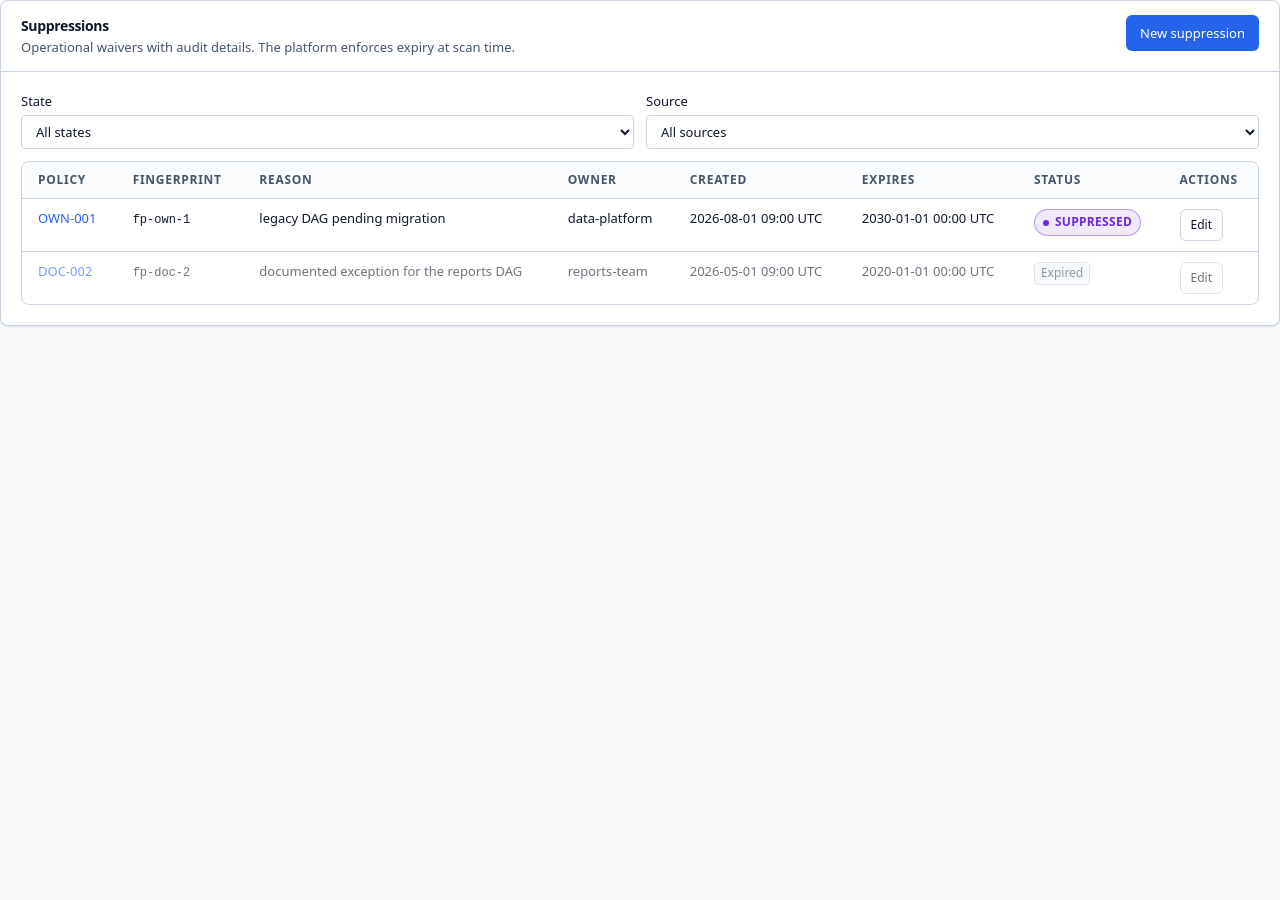
Test: SuppressionsPage › edits reason, owner, and expiry through the update route
Click the button with aria-label "Edit suppression sup-1": (1201, 226) 1180,210 -> 1223,242
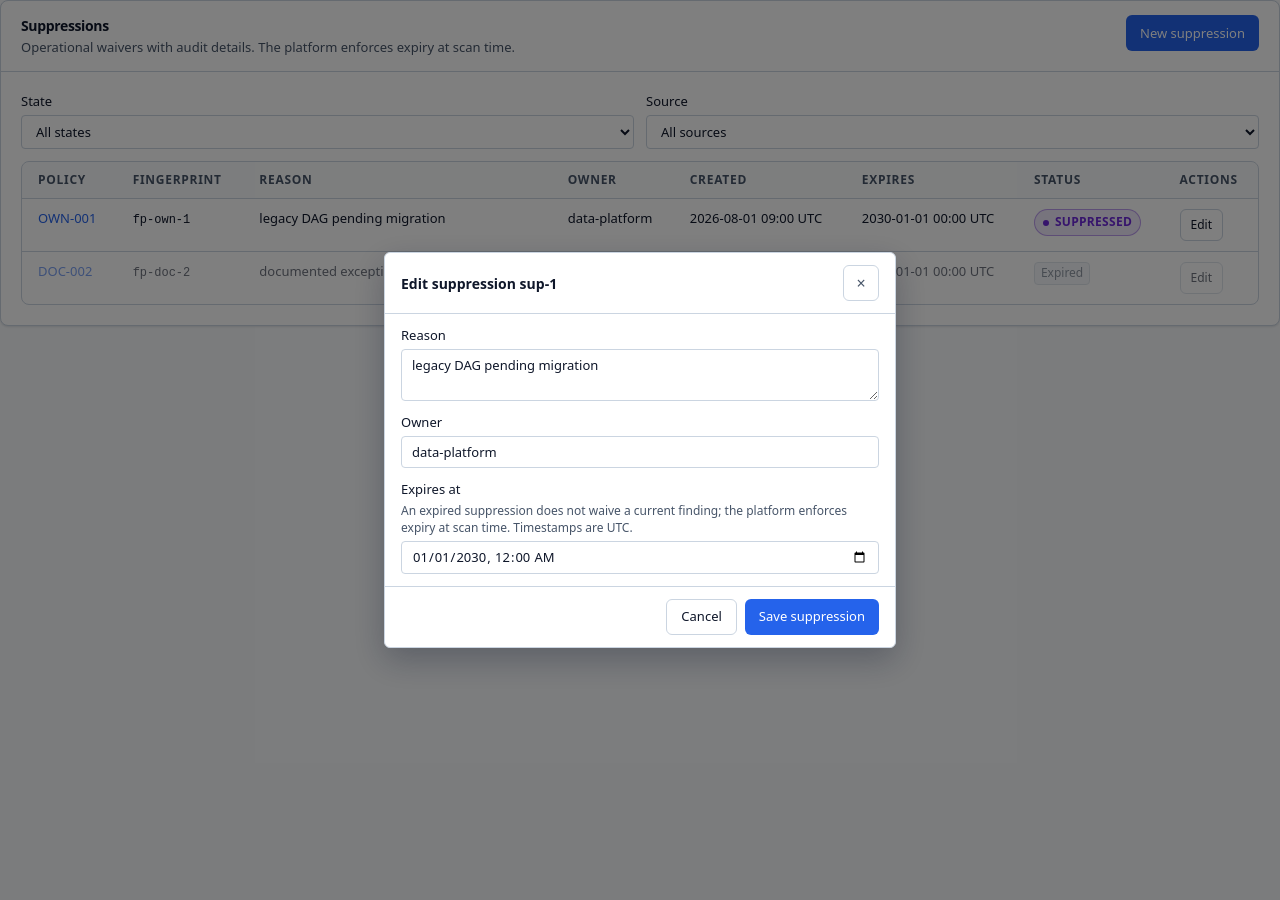
expect the text box labelled "Reason" holds "legacy DAG pending migration": met
expect the field labelled "Owner" holds "data-platform": met, box 401,436 -> 879,468
expect the field labelled "Expires at" holds "2030-01-01T00:00": met, box 401,541 -> 879,574
Replace the text in the text box labelled "Reason" with "updated reason": (640, 375) 401,349 -> 879,401
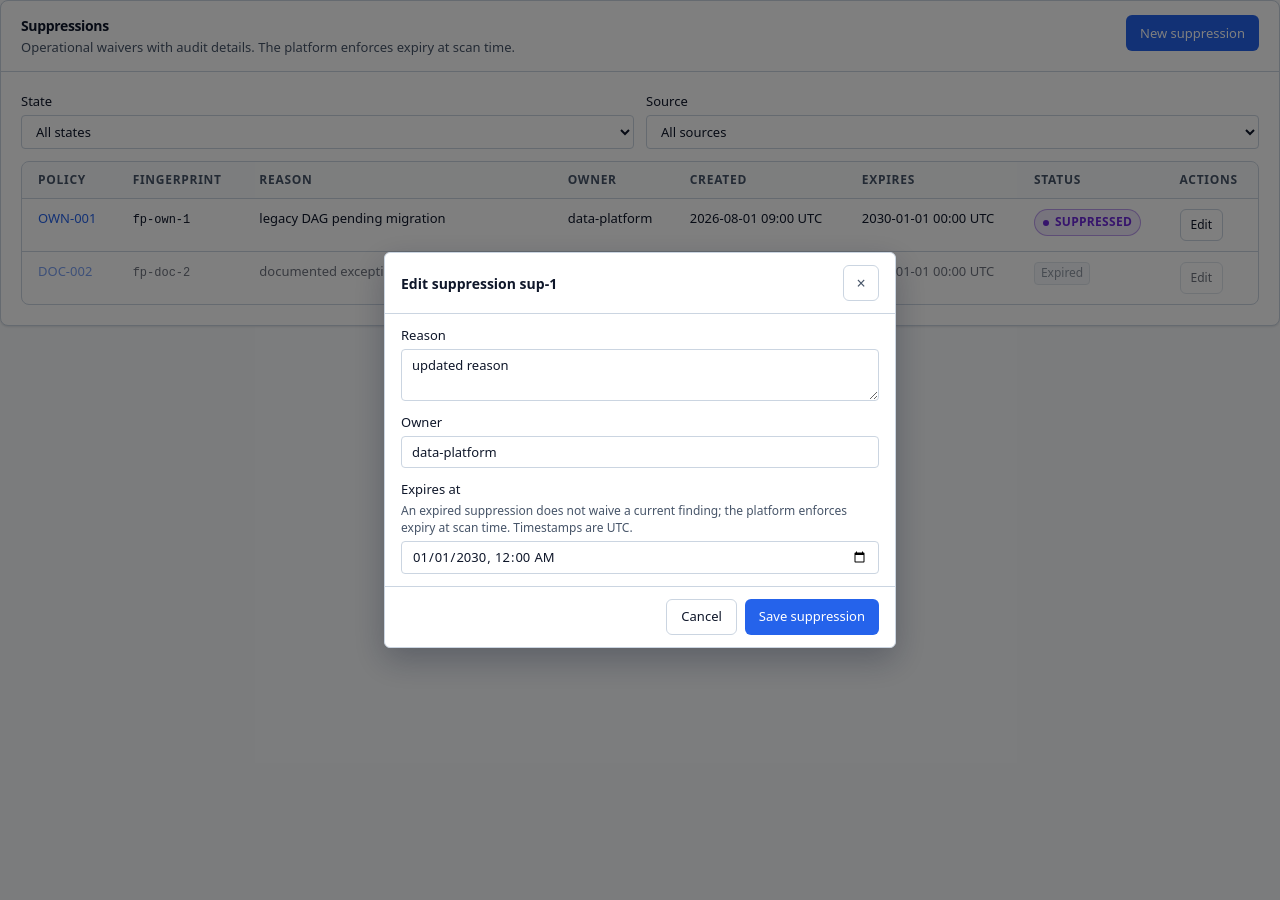
Click the button "Save suppression": (812, 617) 745,599 -> 879,635
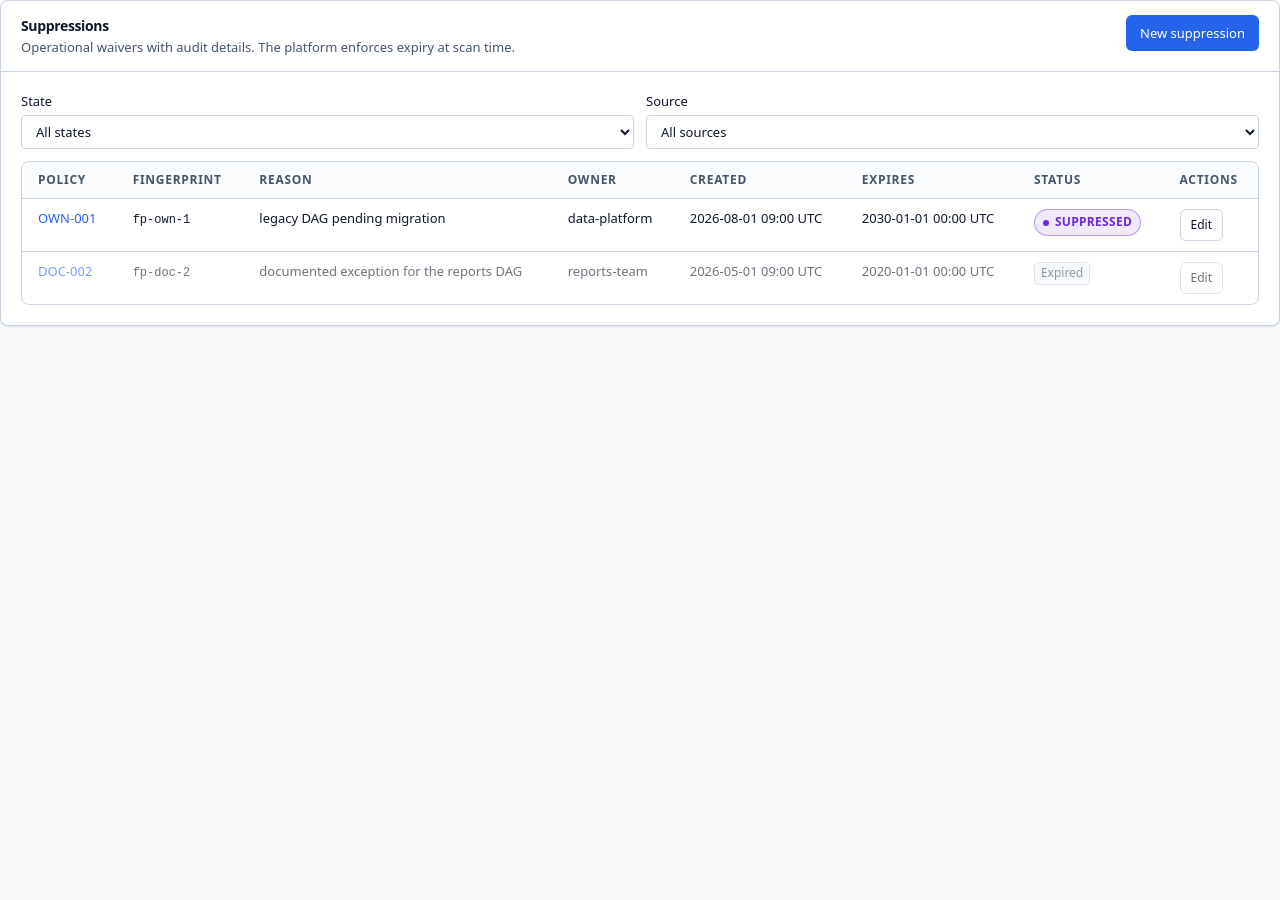
expect the dialog is gone: met
